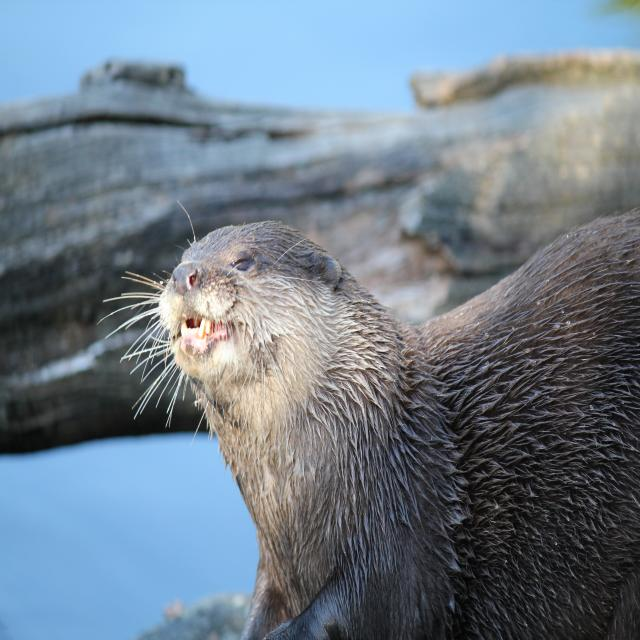otter: (165, 221, 640, 640)
